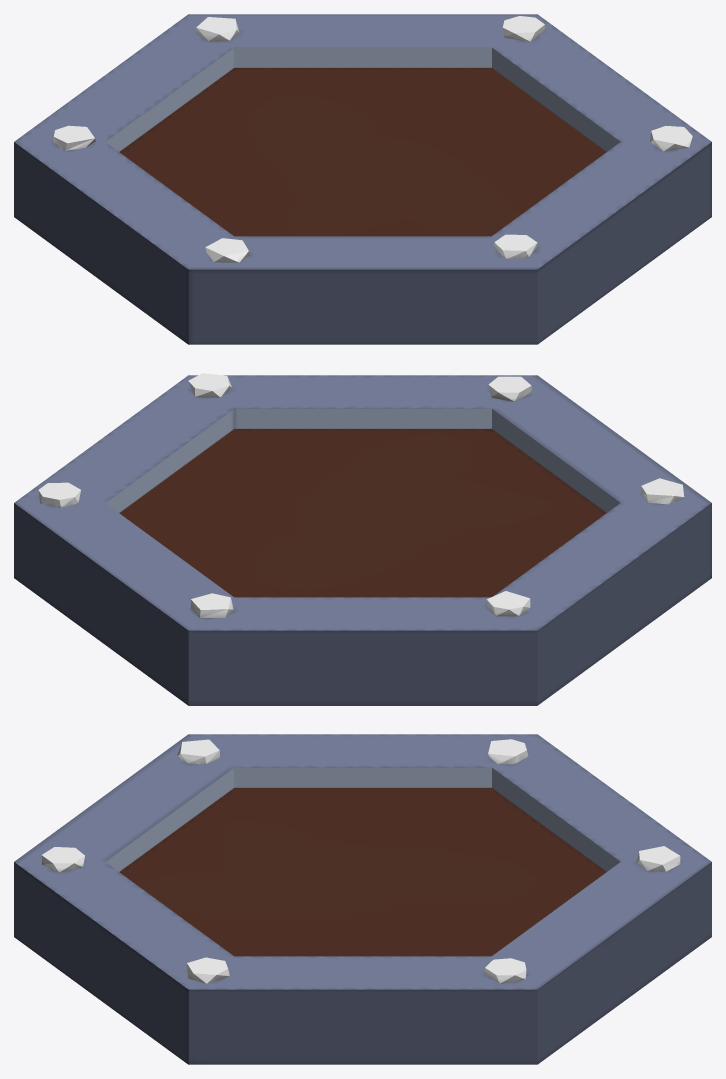
The model's file is Allies.fbx.
3 views of the same model, one above another, from view 1: azimuth 30°, elevation 25°; view 2: azimuth 150°, elevation 25°; view 3: azimuth 270°, elevation 25° (orthographic).
Visible parts, largest first — view 1: Allies; view 2: Allies; view 3: Allies.
Part boxes in pixels (x1,y1,x2,y2): Allies: [14, 14, 711, 344]; Allies: [14, 373, 711, 705]; Allies: [14, 734, 711, 1064].
Bounding box in the file's own units: 44.87 × 6.81 × 51.81.
